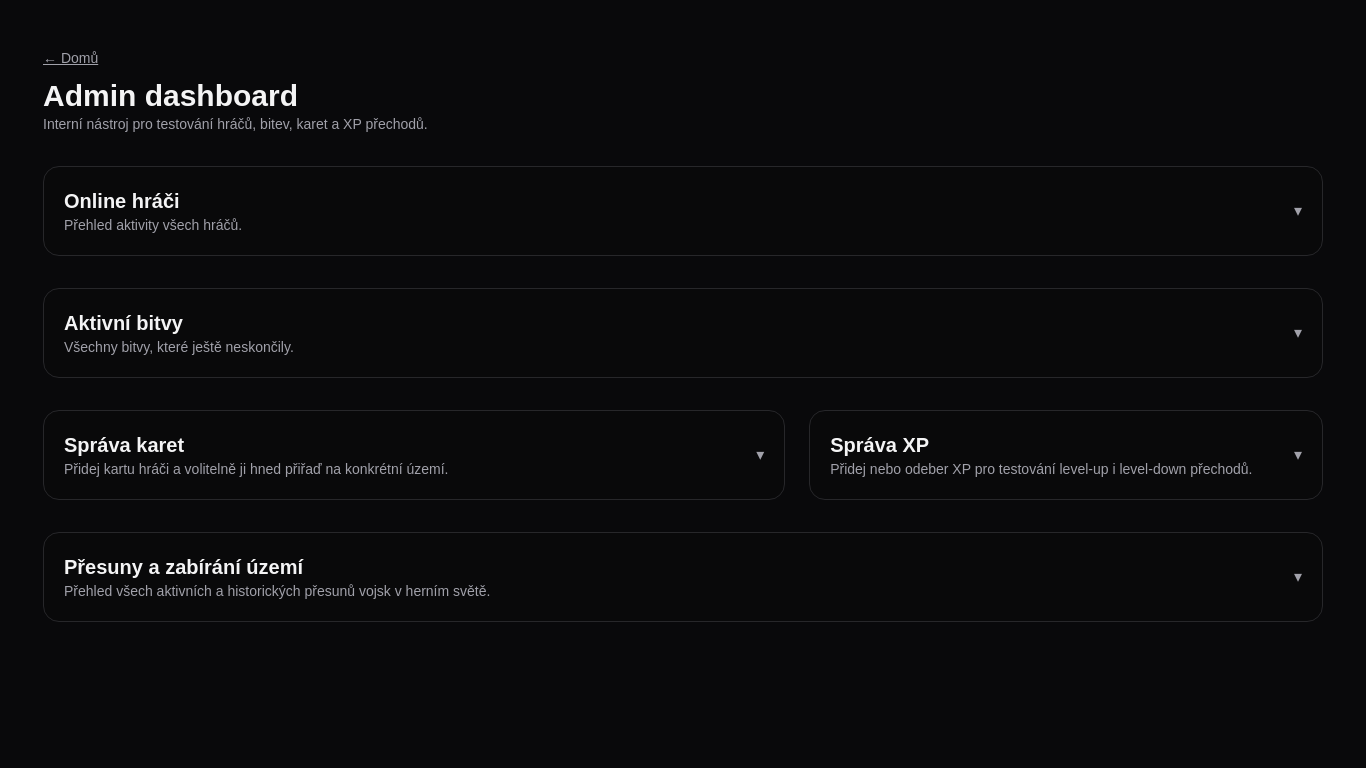
Test: AdminPage › closing zoom modal via close button removes it from the document
Click the button "Správa karet" at (124, 445), box [64,431,764,479]
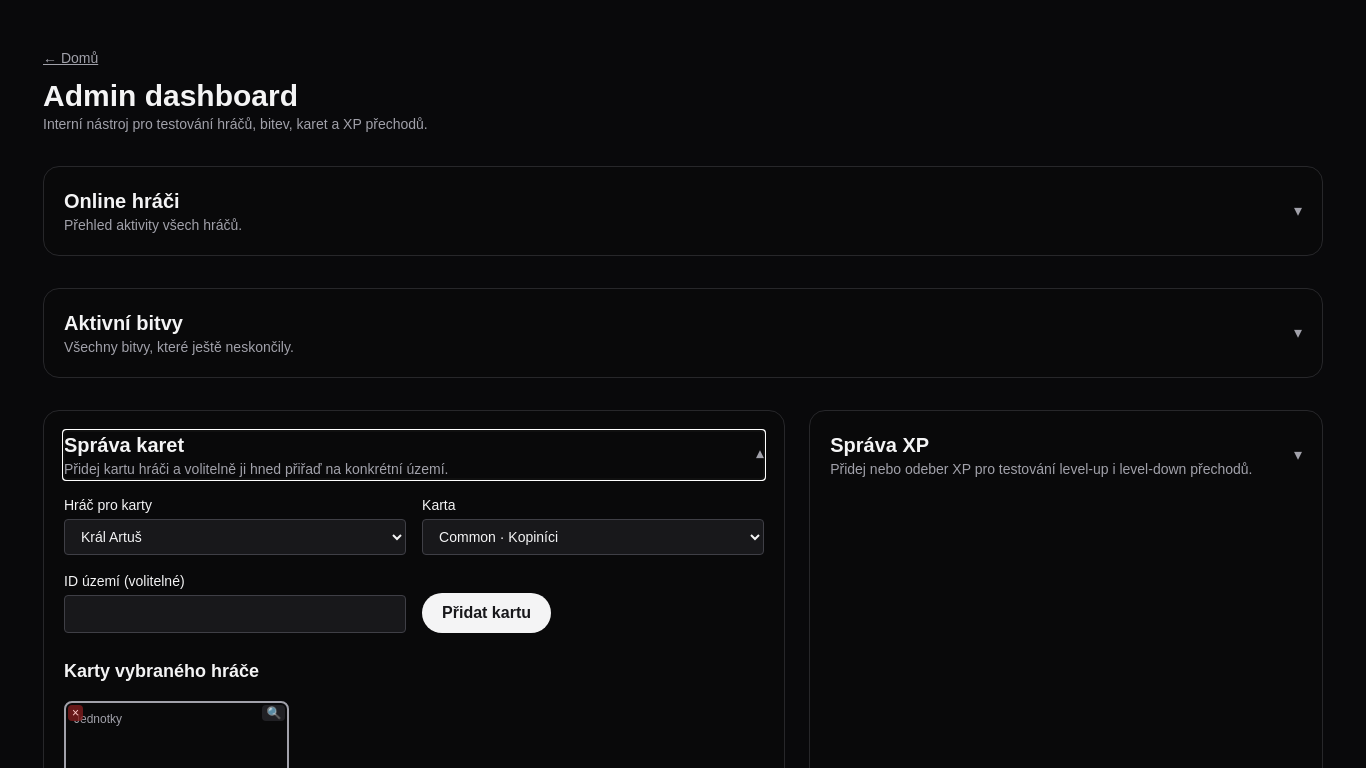
Expected: the button named "Zvětšit kartu Kopiníci" is shown
Click the button named "Zvětšit kartu Kopiníci" at (274, 713), box [262,705,285,721]
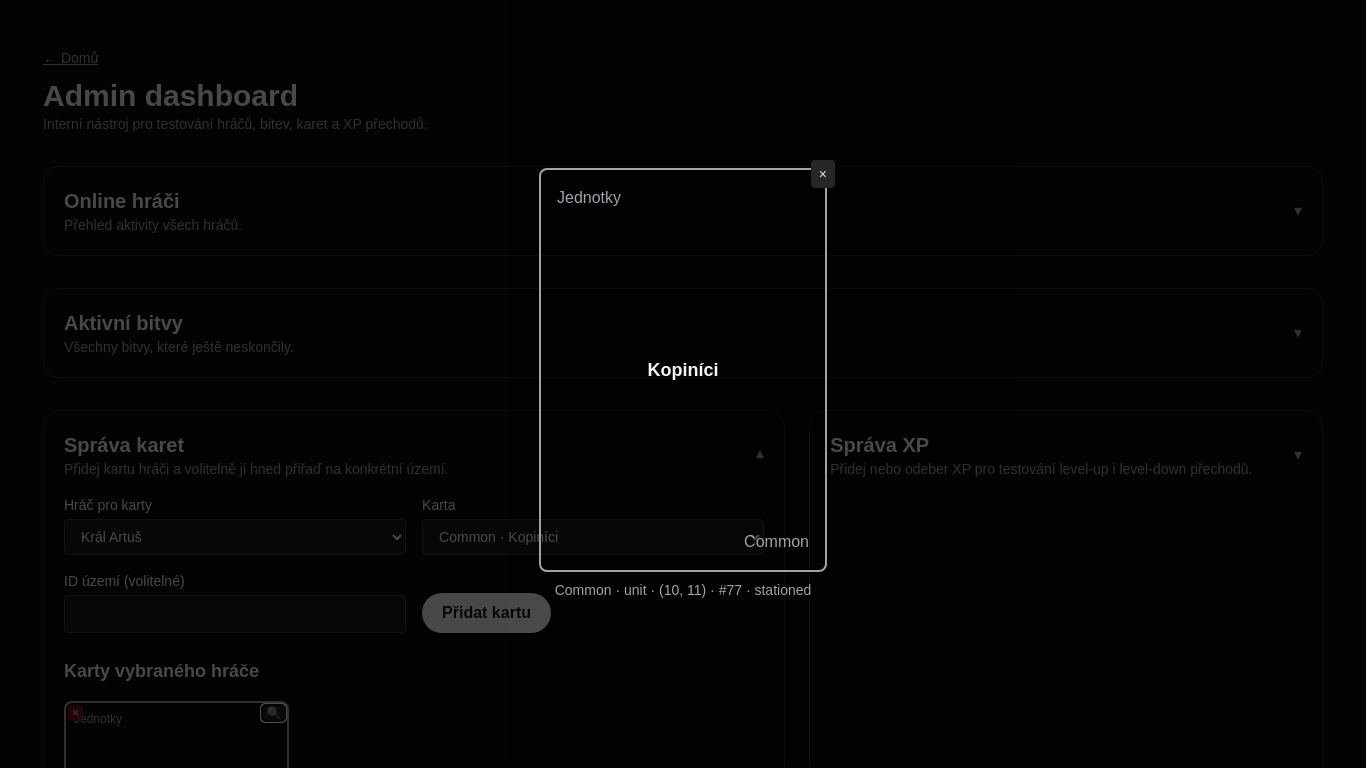
Close button
Click the button named "Zavřít" at (823, 174), box [811,160,835,188]
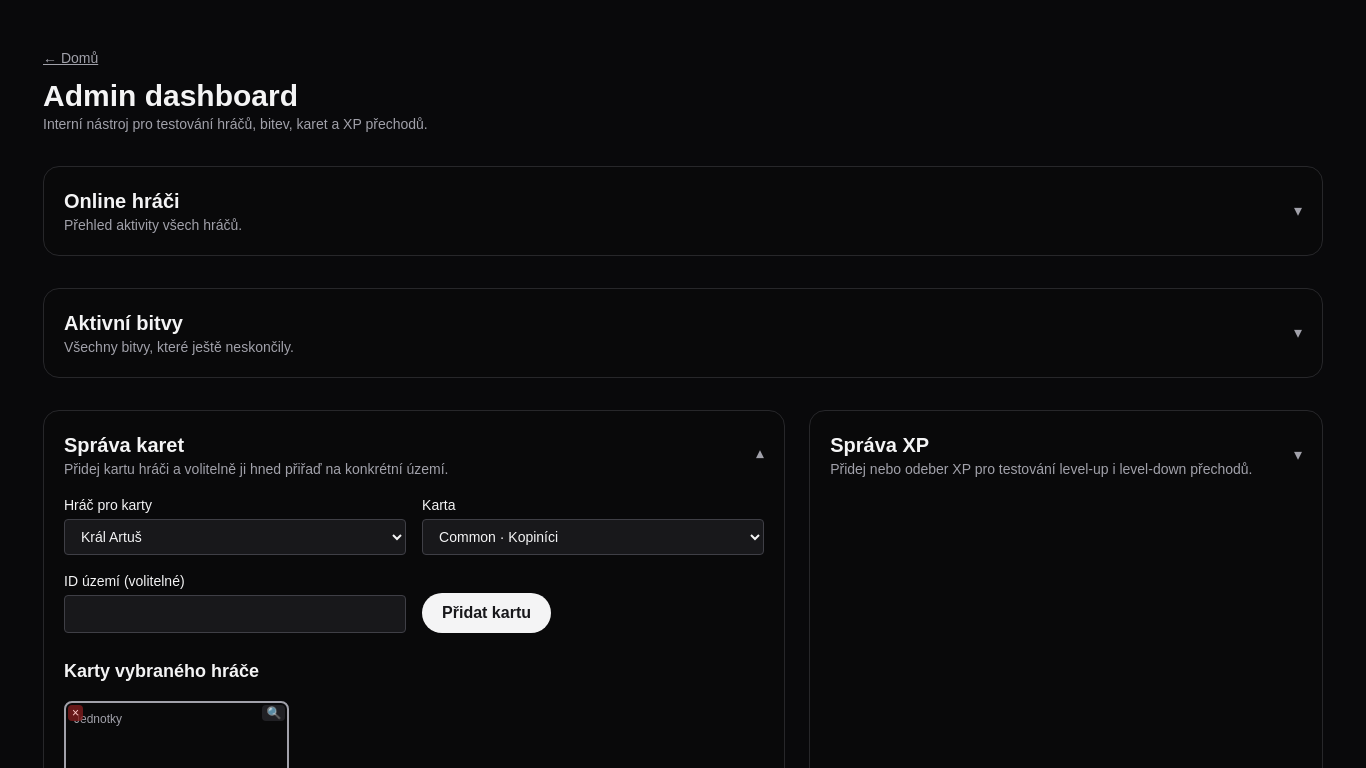
Expected: the button "Zavřít" is gone
